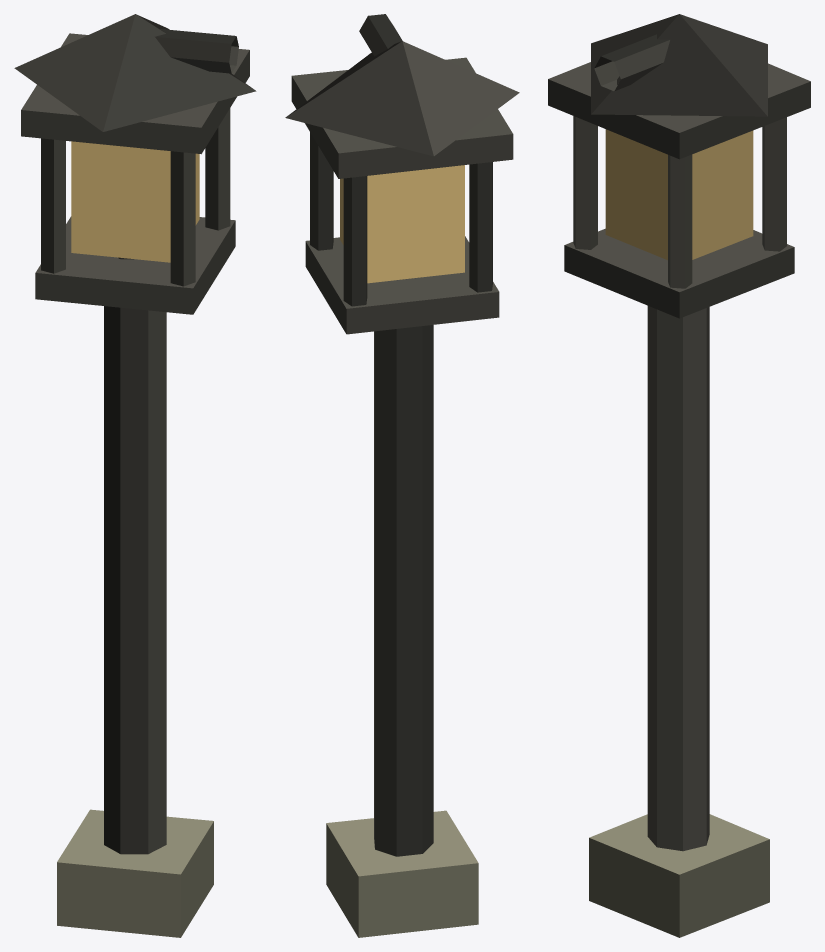
3 views of the same model, side by side, from view 1: azimuth 30°, elevation 25°; view 2: azimuth 150°, elevation 25°; view 3: azimuth 270°, elevation 25° (orthographic). The views are drawn at different scales.
Visible parts, largest first — view 1: 9e416e157b63019581662f6b48d6e819f286265f84fc48712f0f8fec5f4e; view 2: 9e416e157b63019581662f6b48d6e819f286265f84fc48712f0f8fec5f4e; view 3: 9e416e157b63019581662f6b48d6e819f286265f84fc48712f0f8fec5f4e.
Part boxes in pixels (left/top/right/bottom): 9e416e157b63019581662f6b48d6e819f286265f84fc48712f0f8fec5f4e: left=14, top=14, right=256, bottom=937; 9e416e157b63019581662f6b48d6e819f286265f84fc48712f0f8fec5f4e: left=285, top=14, right=519, bottom=937; 9e416e157b63019581662f6b48d6e819f286265f84fc48712f0f8fec5f4e: left=548, top=14, right=810, bottom=937.
Bounding box in the file's own units: 0.9051 × 3.38 × 0.9051.
Materials: 2 (1 with a texture image).
